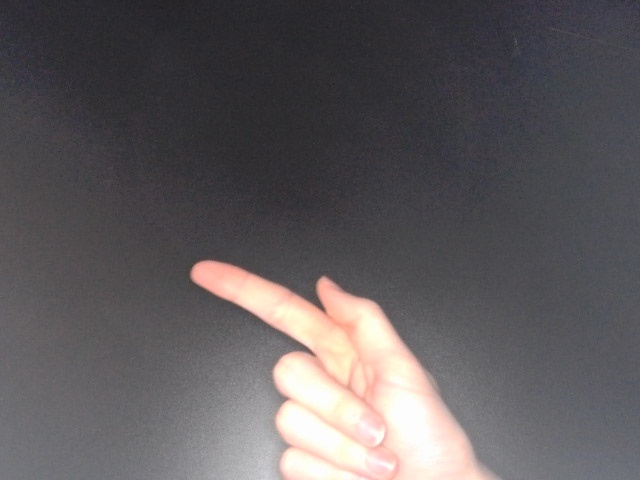g: (184, 256, 505, 480)
